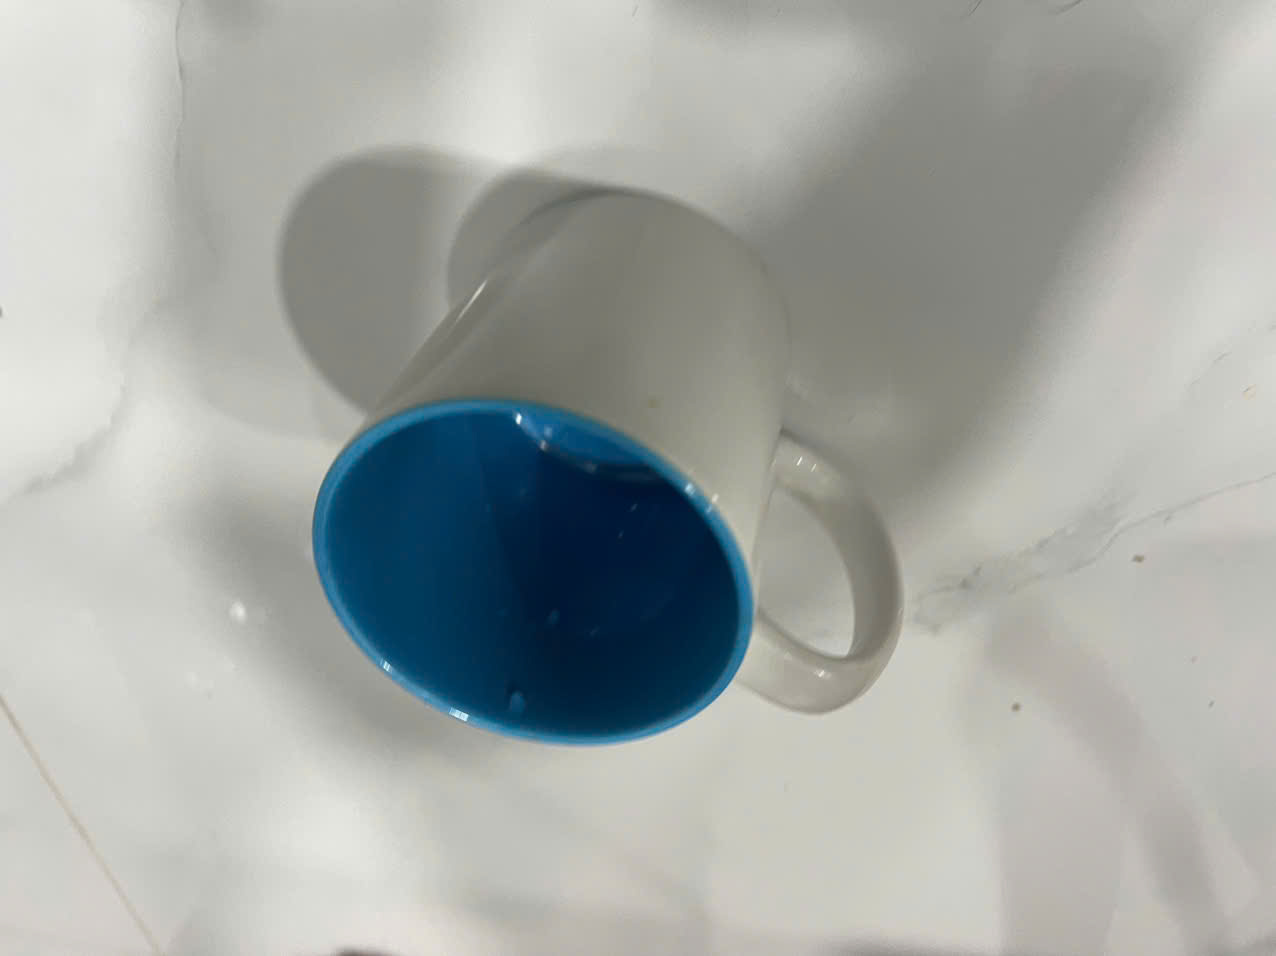ly coc: (305, 168, 933, 807)
